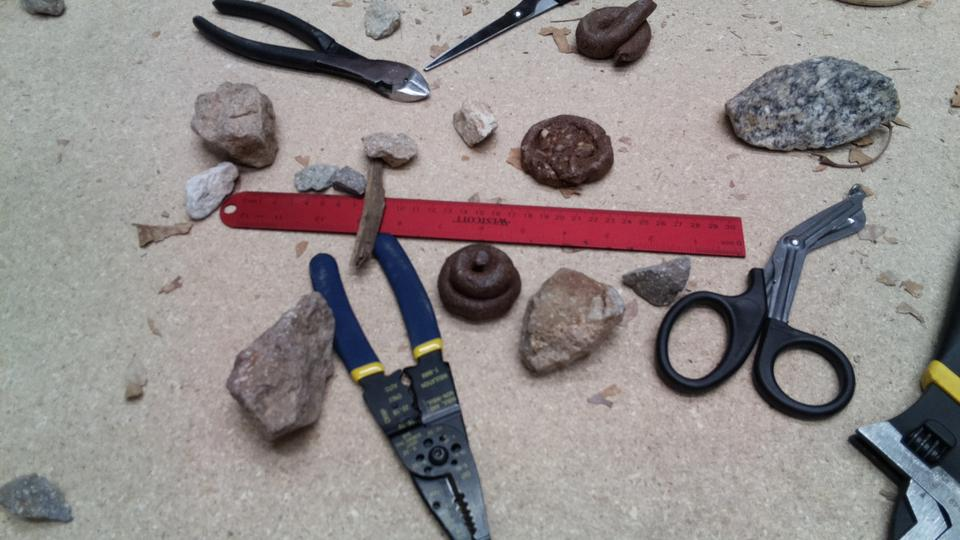poop: (517, 109, 614, 192), (433, 237, 523, 325), (573, 1, 662, 70)
